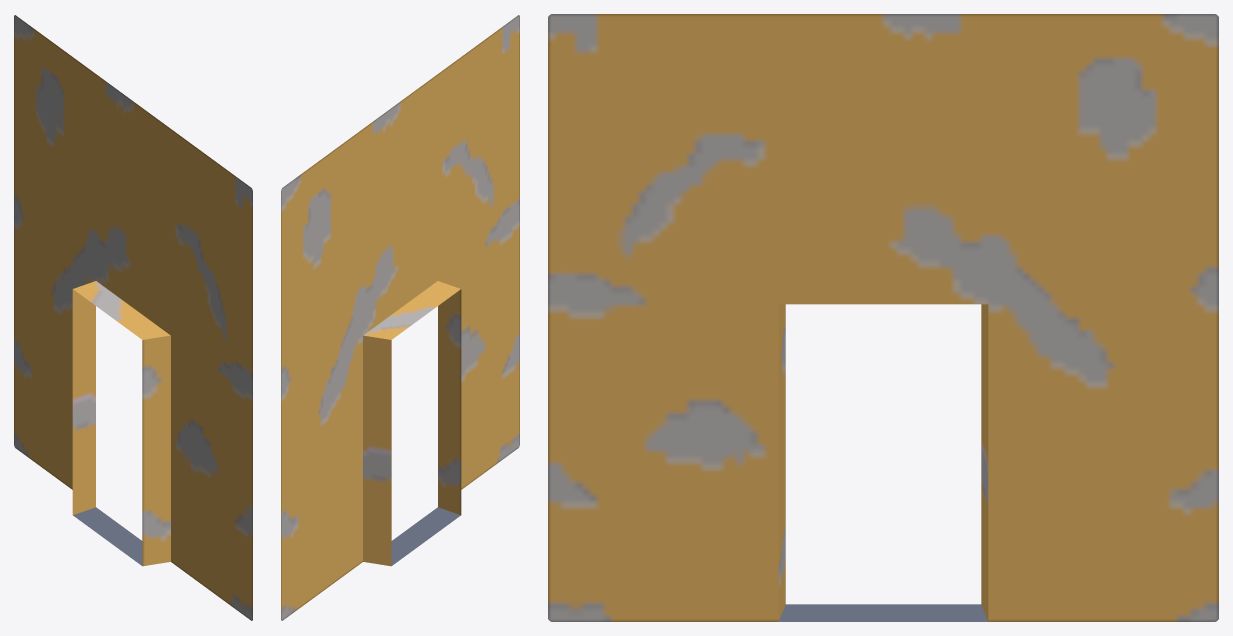
File: ParedPuertaNaranja3.fbx
3 renders of one model, left to right at view 1: azimuth 30°, elevation 25°; view 2: azimuth 150°, elevation 25°; view 3: azimuth 270°, elevation 25°, orthographic. The views are drawn at different scales.
Visible parts, largest first — view 1: Pared + Puerta 1; view 2: Pared + Puerta 1; view 3: Pared + Puerta 1.
Part boxes in pixels (bbox=[...]): Pared + Puerta 1: bbox=[14, 15, 252, 620]; Pared + Puerta 1: bbox=[281, 15, 519, 620]; Pared + Puerta 1: bbox=[548, 14, 1218, 621].
Bounding box in the file's own units: 18.75 × 300 × 300.
1 material, 1 textured.
